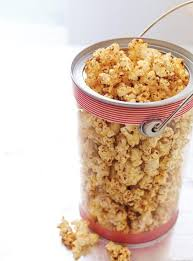popcorn: (56, 26, 188, 261)
